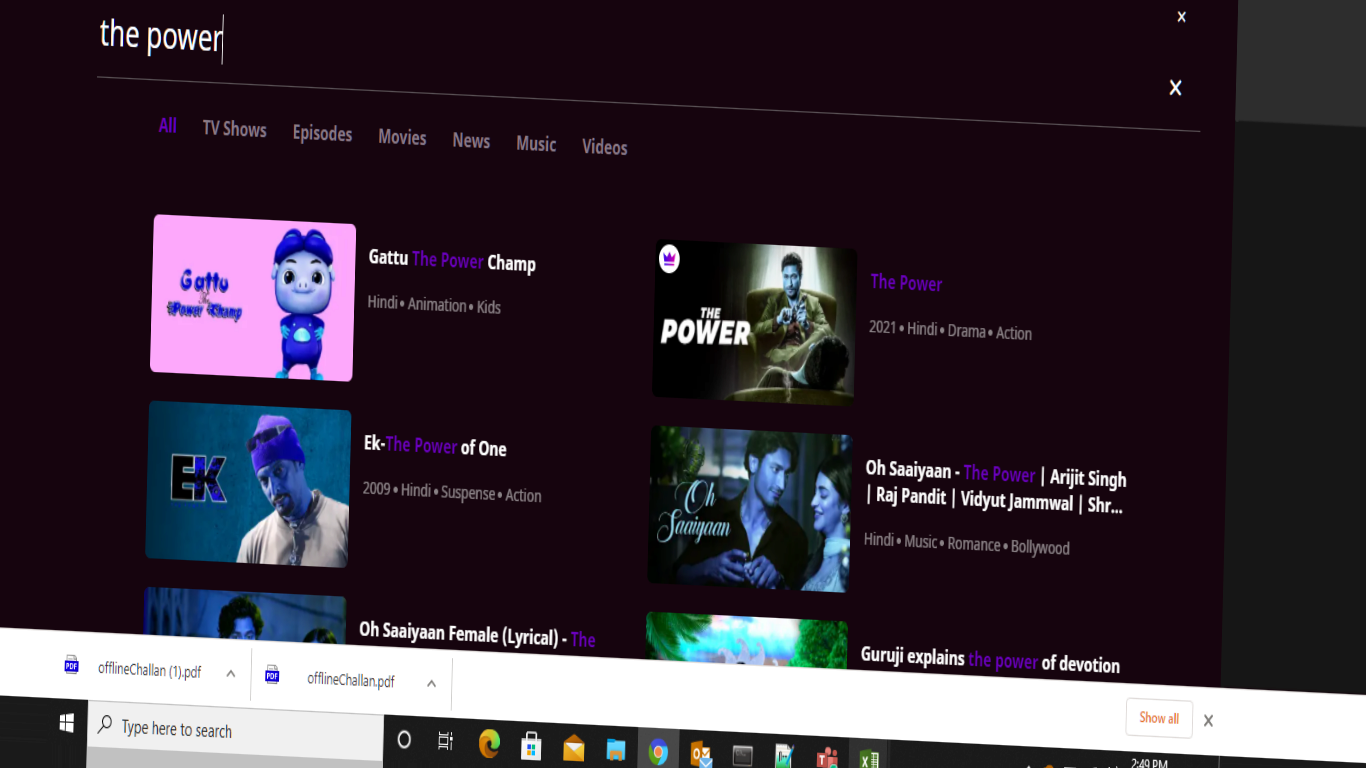searchtextbox: (88, 1, 1192, 137)
